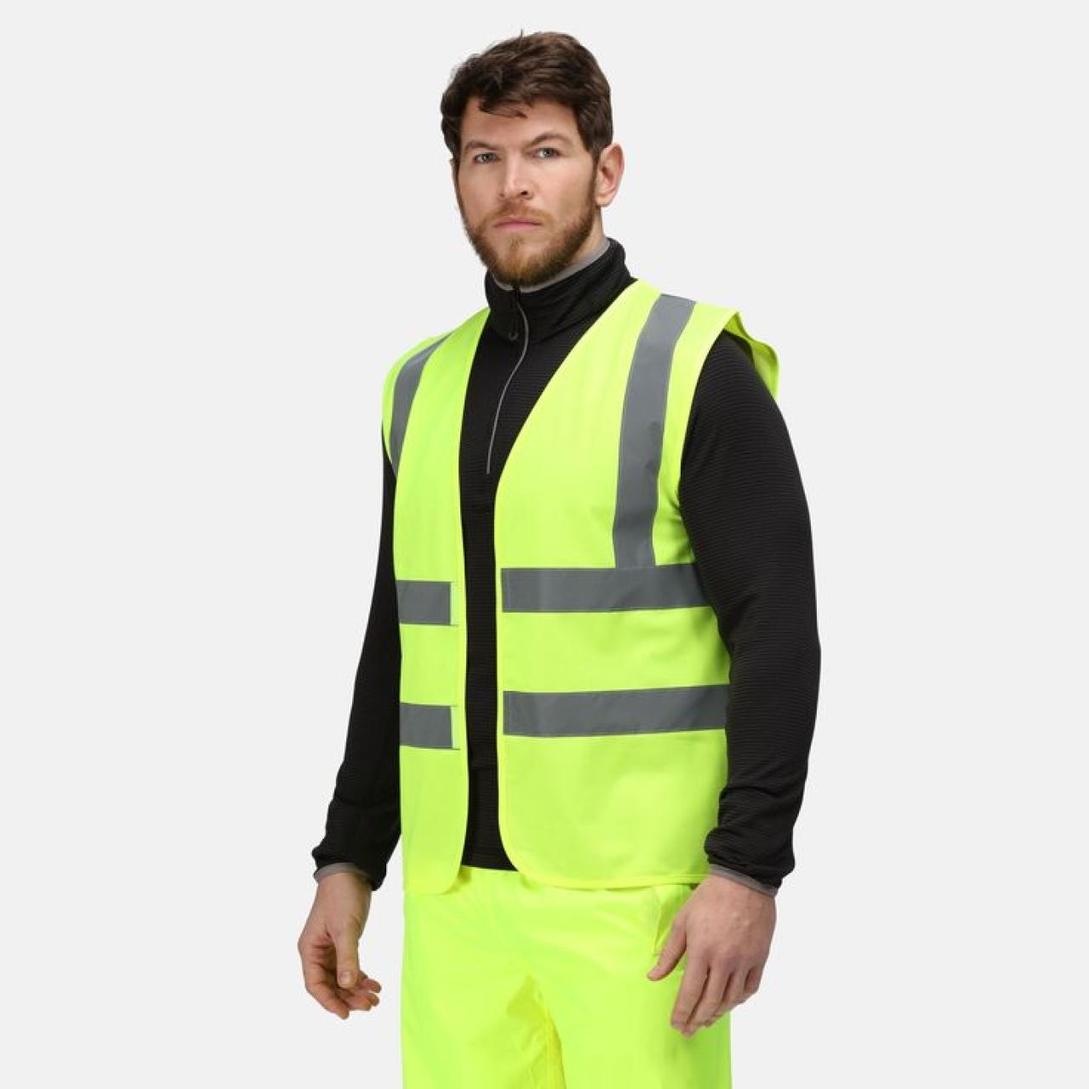Person: (260, 13, 850, 1085)
Safety_Vest: (367, 276, 777, 892)
